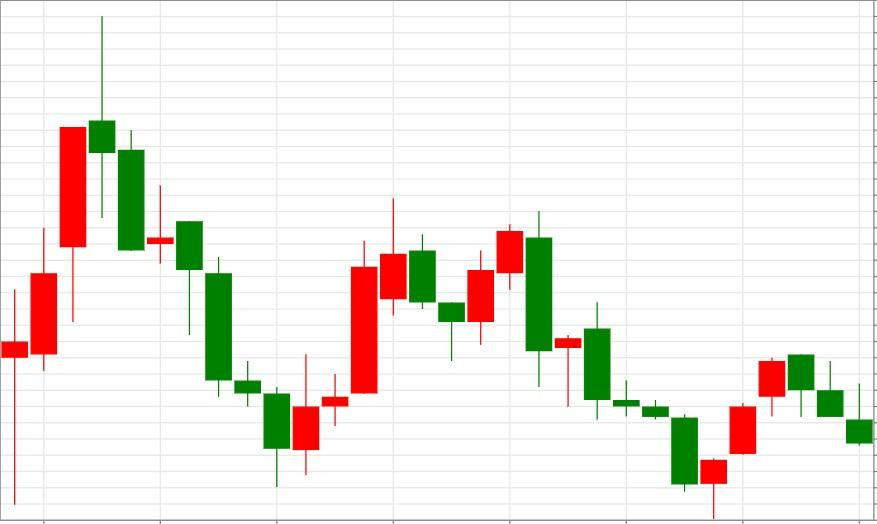bearish_engulfing_fall: (262, 199, 554, 487)
three_white_soldiers_rise: (526, 209, 788, 520)
